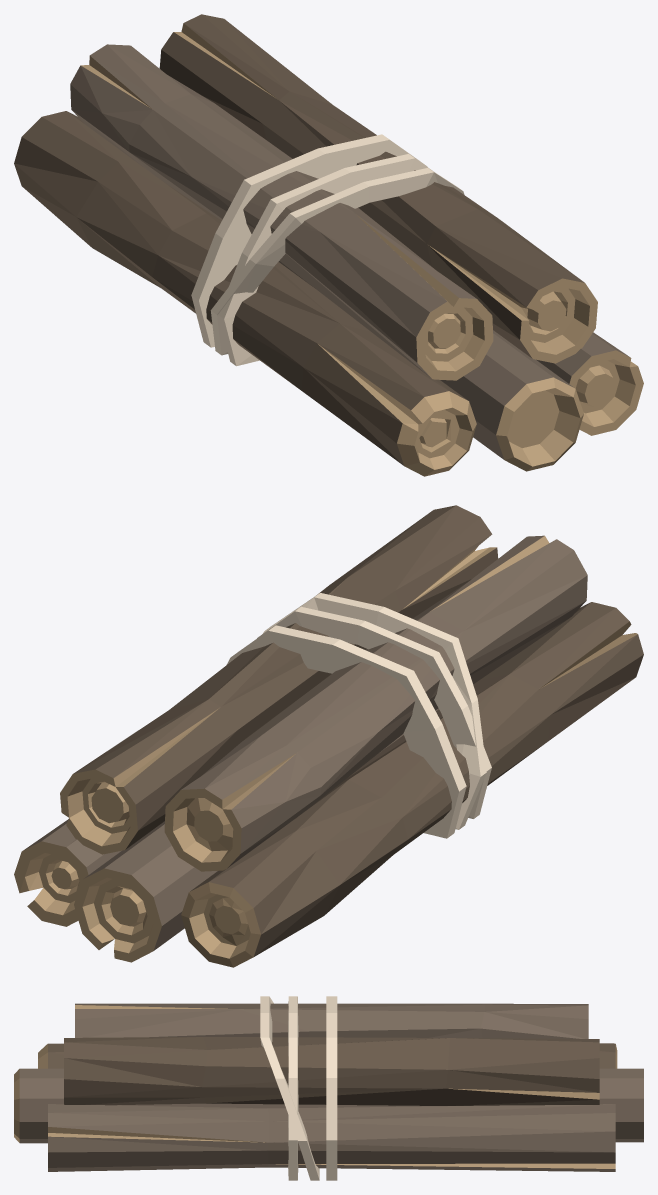
Rendered from _wood_2.fbx.
3 renders of one model, top to bottom at view 1: azimuth 30°, elevation 25°; view 2: azimuth 150°, elevation 25°; view 3: azimuth 270°, elevation 25°, orthographic. The views are drawn at different scales.
Parts seen in each view (by area): view 1: wood_2; view 2: wood_2; view 3: wood_2.
Boxes of the visible parts, box(x1,y1,x2,y2) form: wood_2: box(14, 14, 643, 476); wood_2: box(14, 505, 643, 967); wood_2: box(14, 996, 643, 1180).
Size of the model in its own units: 139 by 83.8 by 389.
